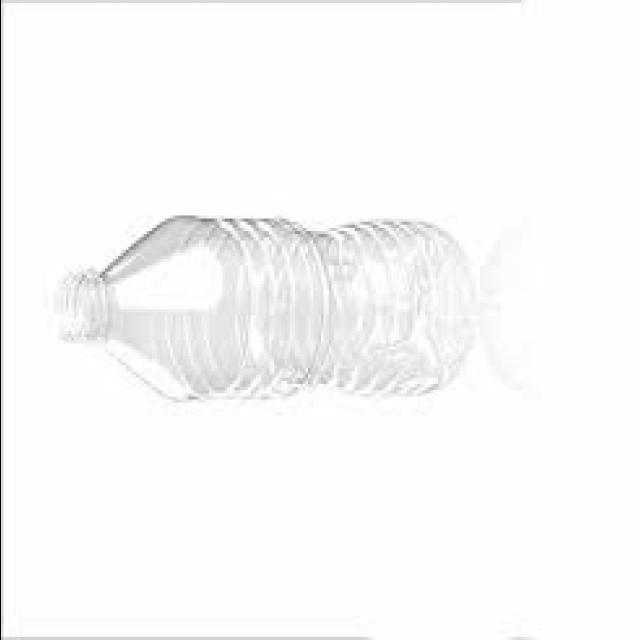plastic cup: (53, 216, 474, 400)
